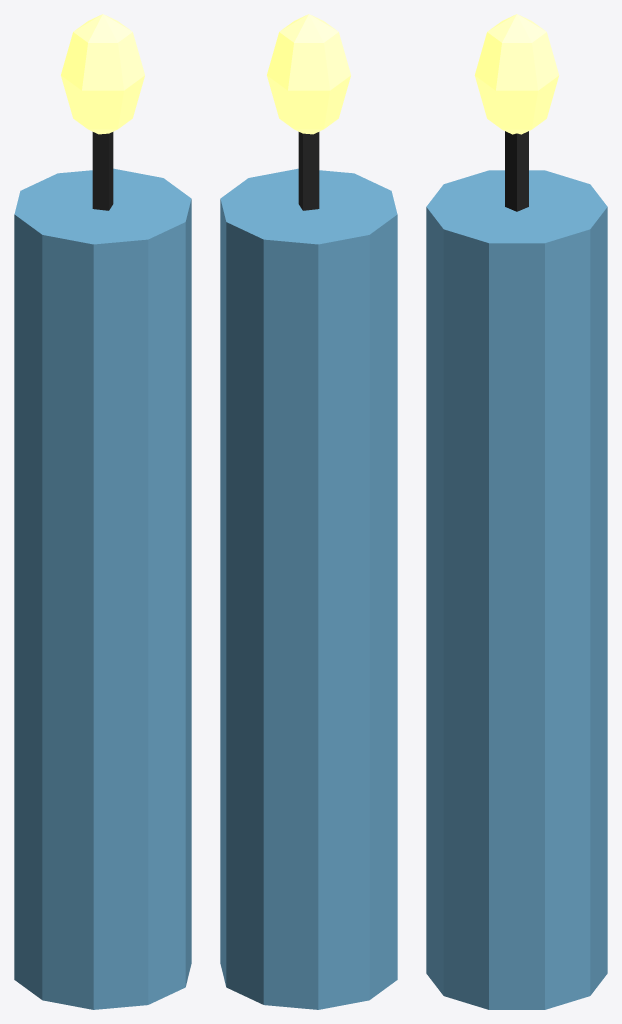
Rendered from candle.glb.
The picture shows the model from 3 angles, left to right: view 1: azimuth 30°, elevation 25°; view 2: azimuth 150°, elevation 25°; view 3: azimuth 270°, elevation 25°; orthographic projection.
Parts seen in each view (by area): view 1: candle; view 2: candle; view 3: candle.
Boxes of the visible parts, x1,y1,x2,y2 form: candle: (14,14,191,1009); candle: (220,14,397,1009); candle: (426,14,607,1009).
Size of the model in its own units: 0.0143 by 0.0876 by 0.015.
